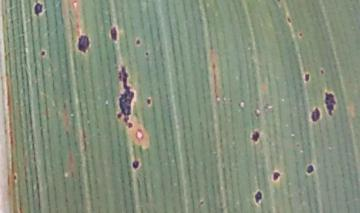tarspot: (116, 66, 135, 123), (322, 90, 337, 116), (77, 33, 90, 53), (31, 2, 45, 16), (109, 24, 119, 43), (310, 107, 321, 123), (250, 129, 260, 143), (254, 189, 263, 204), (131, 158, 141, 171), (272, 169, 281, 181), (284, 14, 293, 25), (306, 164, 315, 174), (303, 72, 311, 82), (39, 48, 46, 57), (296, 29, 303, 38), (198, 198, 205, 206), (11, 173, 17, 181), (146, 97, 152, 105), (319, 67, 325, 75), (135, 38, 141, 45), (294, 142, 301, 148), (144, 50, 150, 56), (128, 122, 133, 128)
